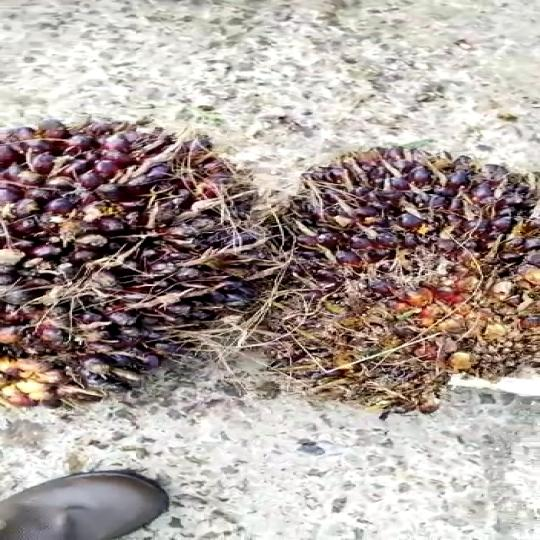kurang masak: (234, 120, 540, 434), (0, 110, 275, 418)
